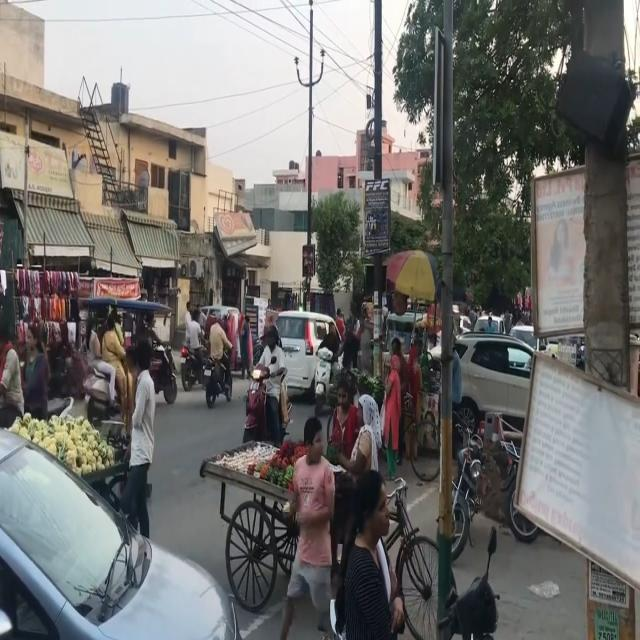Scooty: (240, 357, 294, 438)
